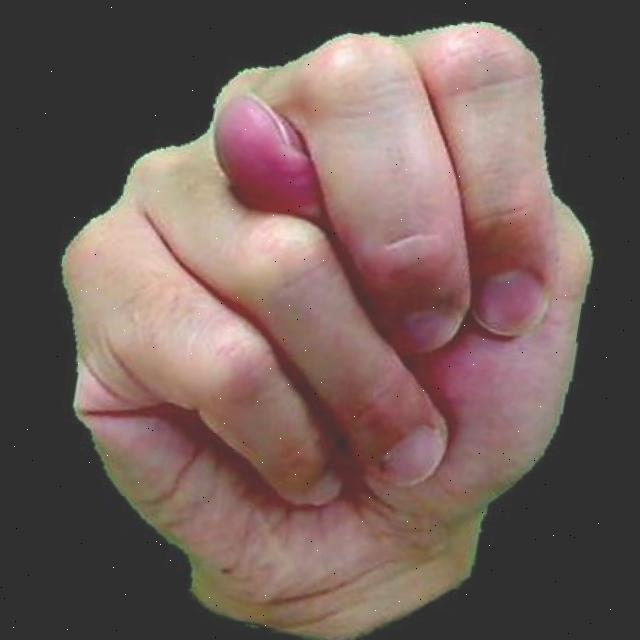n: (2, 0, 634, 640)
